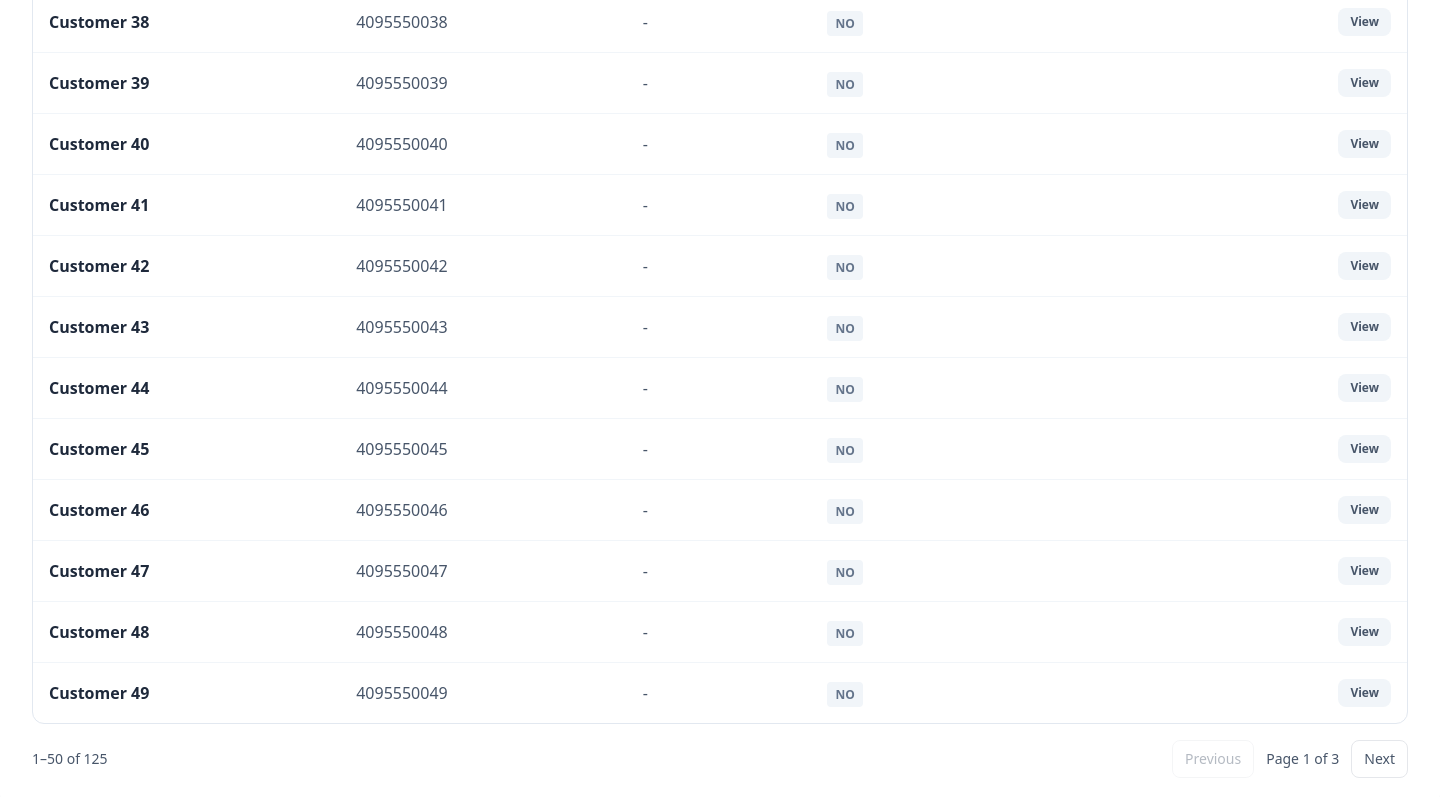
Test: name/email searches do not match every phone number when the search contains no digits
(page scrolled)
Click the button "Next".
click(1380, 759)  # box 1351,740 -> 1408,778
(page scrolled)
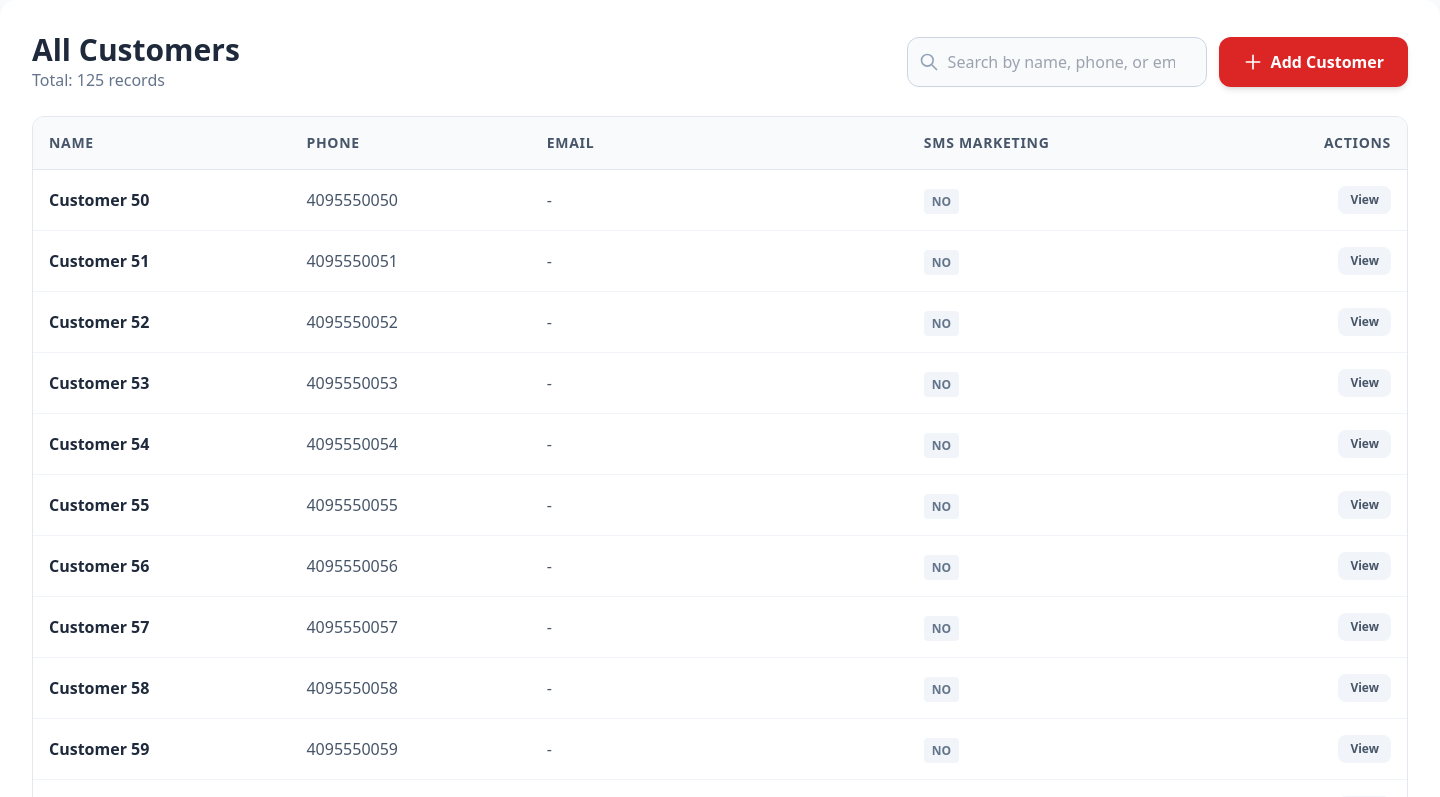
Type "needle" into the search field.
click(1057, 62); type("needle")  # box 907,37 -> 1207,87
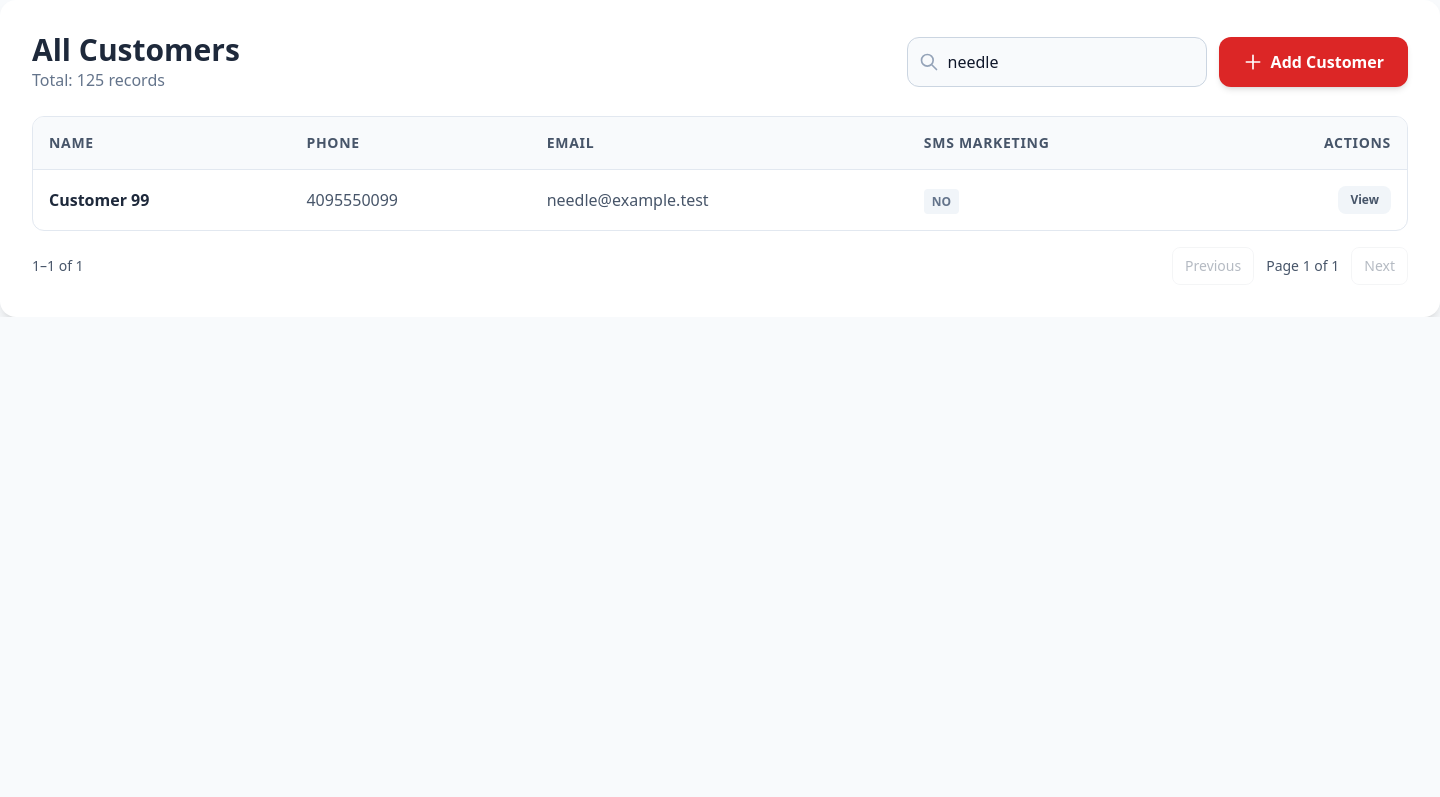
Check: the number of rows is 2, box 33,117 -> 1407,170; 33,170 -> 1407,230
Check: the text "Customer 99" is shown, box 49,189 -> 149,211
Check: the text "Page 1 of 1" is shown, box 1266,256 -> 1339,276
